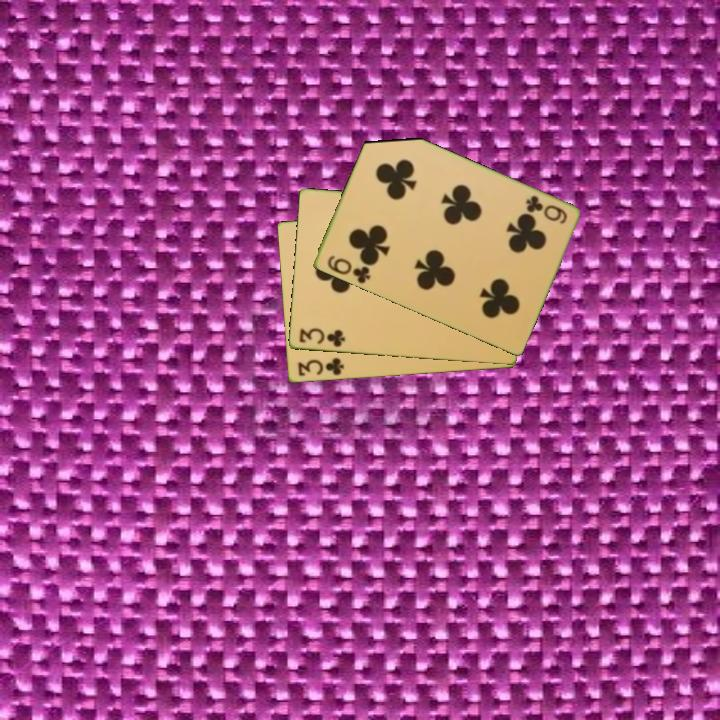3c: (295, 325, 348, 350), (294, 354, 346, 379)
6c: (323, 252, 373, 287), (522, 192, 570, 227)
